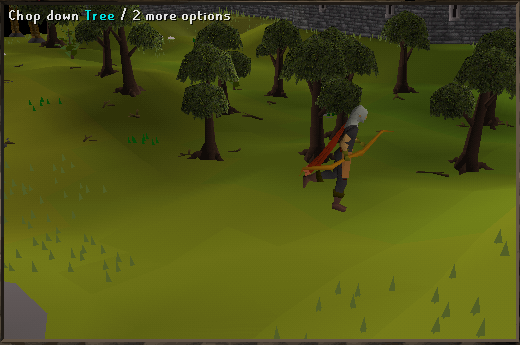Tree: (167, 38, 242, 169), (430, 52, 510, 174), (286, 34, 347, 124), (373, 1, 428, 86), (116, 0, 156, 95), (254, 18, 291, 112), (79, 0, 109, 86)
